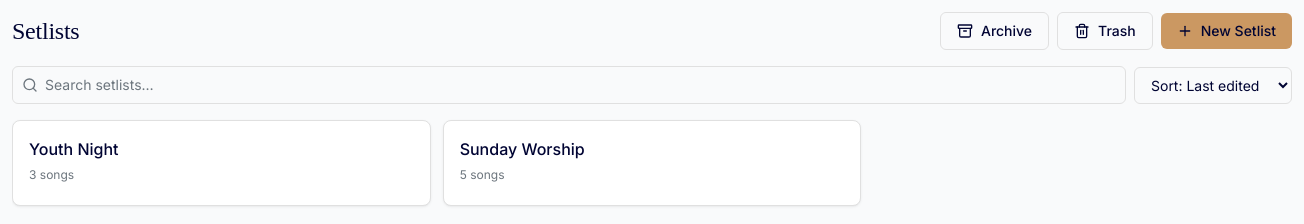
SetlistHubPage › positive › filters setlists via search
expect the text "Sunday Worship" is shown: met, box [460,137,585,161]
Type "youth" into the search field labelled "Search setlists…".
click(569, 85); type("youth")  # box [12,66,1126,104]
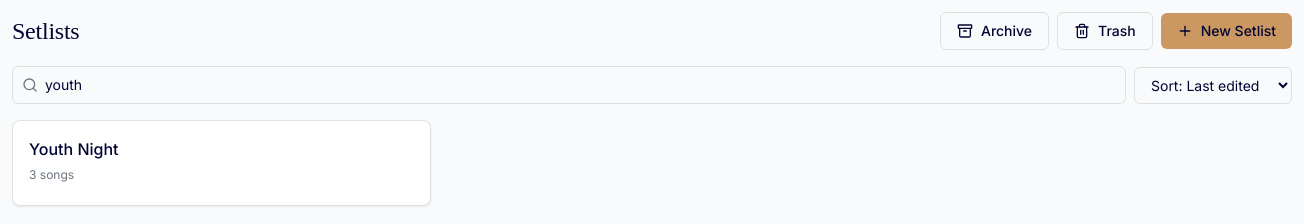
expect the text "Youth Night" is shown: met, box [29,137,118,161]
expect the link "Sunday Worship" is gone: met
